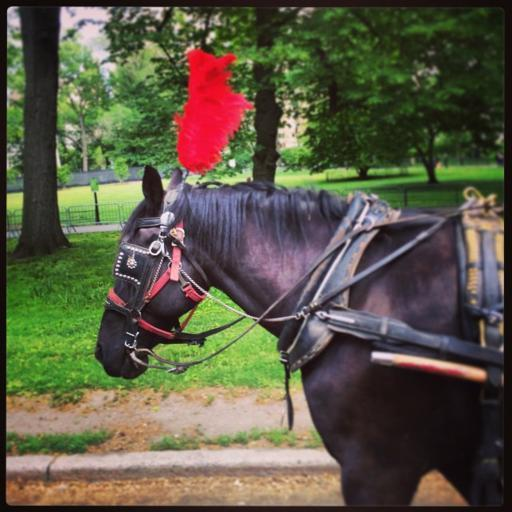horse: (92, 162, 505, 508)
